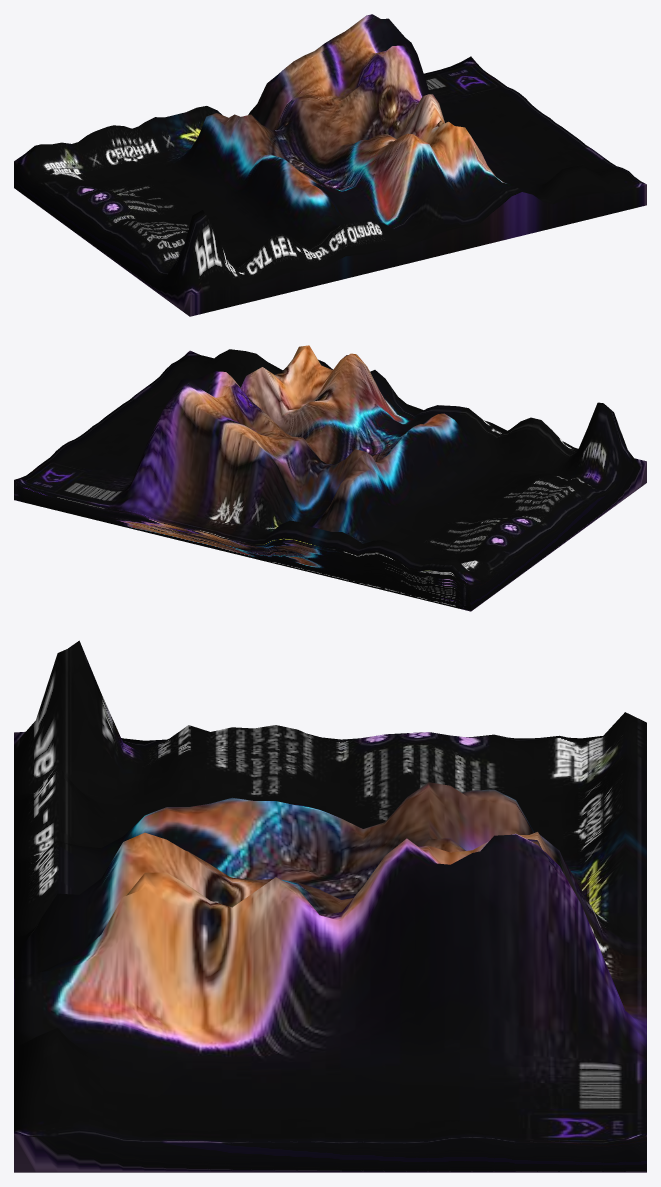
File: PET_16_Cat.glb
3 views of the same model, one above another, from view 1: azimuth 30°, elevation 25°; view 2: azimuth 150°, elevation 25°; view 3: azimuth 270°, elevation 25° (orthographic). The views are drawn at different scales.
Visible parts, largest first — view 1: PET_16_Cat; view 2: PET_16_Cat; view 3: PET_16_Cat.
Part boxes in pixels (left/top/right/bottom): PET_16_Cat: left=14, top=14, right=646, bottom=316; PET_16_Cat: left=14, top=345, right=646, bottom=611; PET_16_Cat: left=14, top=640, right=646, bottom=1172.
Size of the model in its own units: 2 by 0.51 by 1.33.
Materials: 1 (1 with a texture image).
